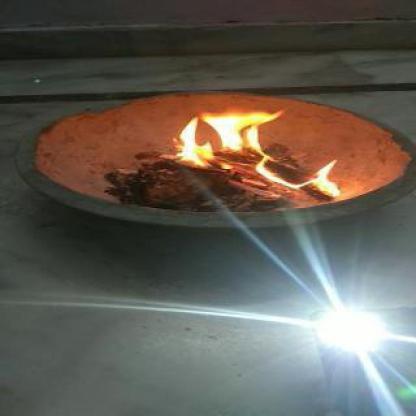Fire: (173, 105, 347, 191)
